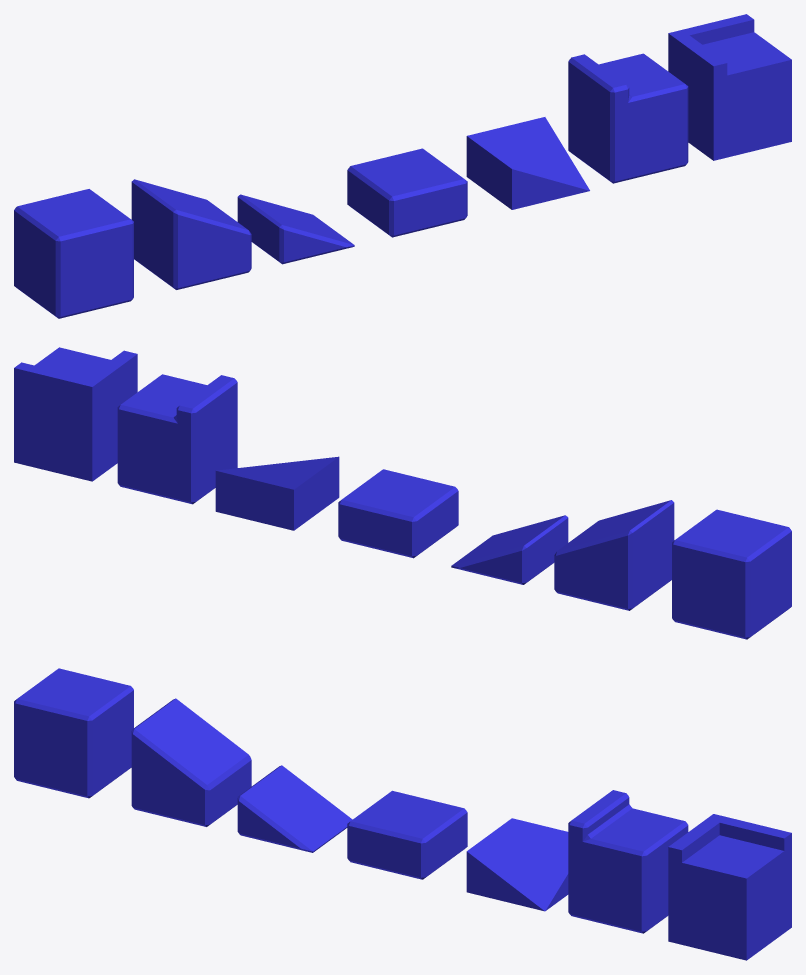
File: wordl-blocks-v1.glb
3 views of the same model, one above another, from view 1: azimuth 30°, elevation 25°; view 2: azimuth 150°, elevation 25°; view 3: azimuth 330°, elevation 25° (orthographic).
Parts seen in each view (by area): view 1: BlockWallCorner, BlockWall, Block, RampTop, BlockShort, RampLowerCorner, RampBottom; view 2: BlockWallCorner, BlockWall, Block, RampTop, BlockShort, RampLowerCorner, RampBottom; view 3: BlockWallCorner, Block, BlockWall, RampTop, BlockShort, RampLowerCorner, RampBottom.
Part boxes in pixels (<box>): BlockWallCorner: <box>668,14,791,160</box>; BlockWall: <box>568,53,688,183</box>; Block: <box>14,189,133,318</box>; RampTop: <box>131,179,251,289</box>; BlockShort: <box>347,148,467,237</box>; RampLowerCorner: <box>466,117,589,209</box>; RampBottom: <box>237,194,354,264</box>; BlockWallCorner: <box>14,347,137,481</box>; BlockWall: <box>117,374,237,504</box>; Block: <box>672,509,791,639</box>; RampTop: <box>554,500,674,610</box>; BlockShort: <box>338,469,458,558</box>; RampLowerCorner: <box>215,456,339,530</box>; RampBottom: <box>451,515,568,584</box>; BlockWallCorner: <box>668,814,791,960</box>; Block: <box>14,668,133,798</box>; BlockWall: <box>568,790,688,933</box>; RampTop: <box>131,698,251,826</box>; BlockShort: <box>347,790,467,879</box>; RampLowerCorner: <box>466,818,568,911</box>; RampBottom: <box>237,765,352,852</box>.
Size of what is drawn, in the model's own units: 18.73 by 2.33 by 2.
